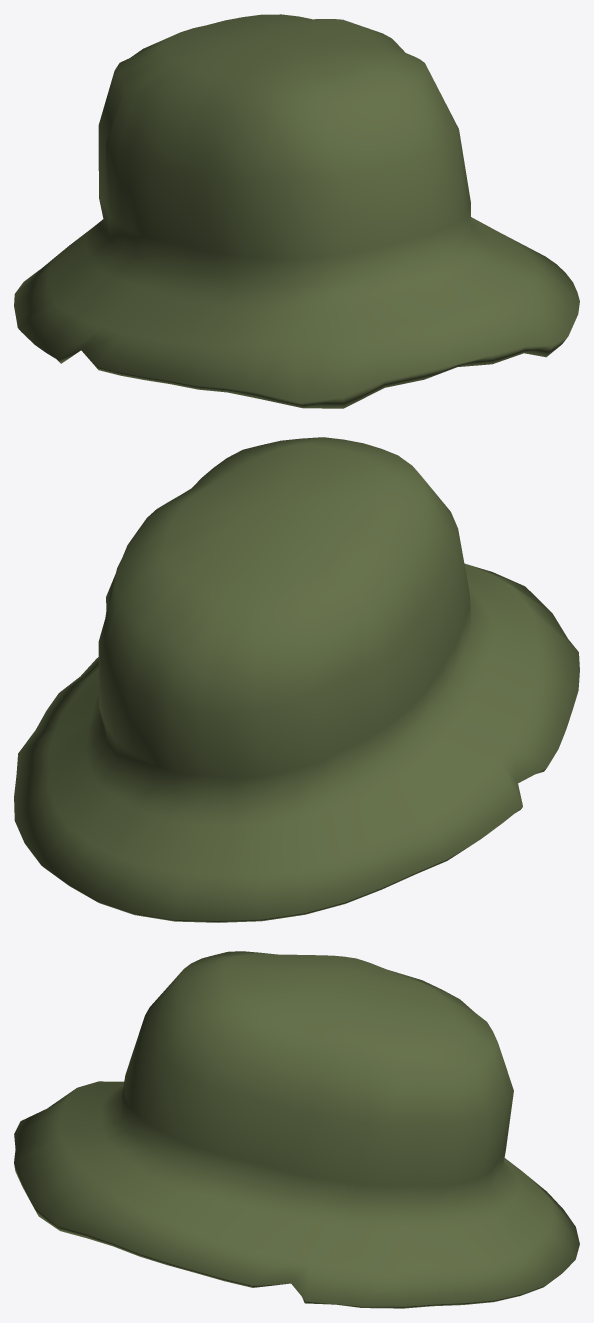
Rendered from bucket_hat.glb.
3 views of the same model, one above another, from view 1: azimuth 30°, elevation 25°; view 2: azimuth 150°, elevation 25°; view 3: azimuth 270°, elevation 25° (orthographic). The views are drawn at different scales.
Visible parts, largest first — view 1: bucket_hat; view 2: bucket_hat; view 3: bucket_hat.
Part boxes in pixels (bbox=[...]): bucket_hat: bbox=[14, 14, 579, 408]; bucket_hat: bbox=[14, 437, 579, 922]; bucket_hat: bbox=[14, 951, 579, 1308].
Size of the model in its own units: 0.2772 by 0.1806 by 0.3376.
